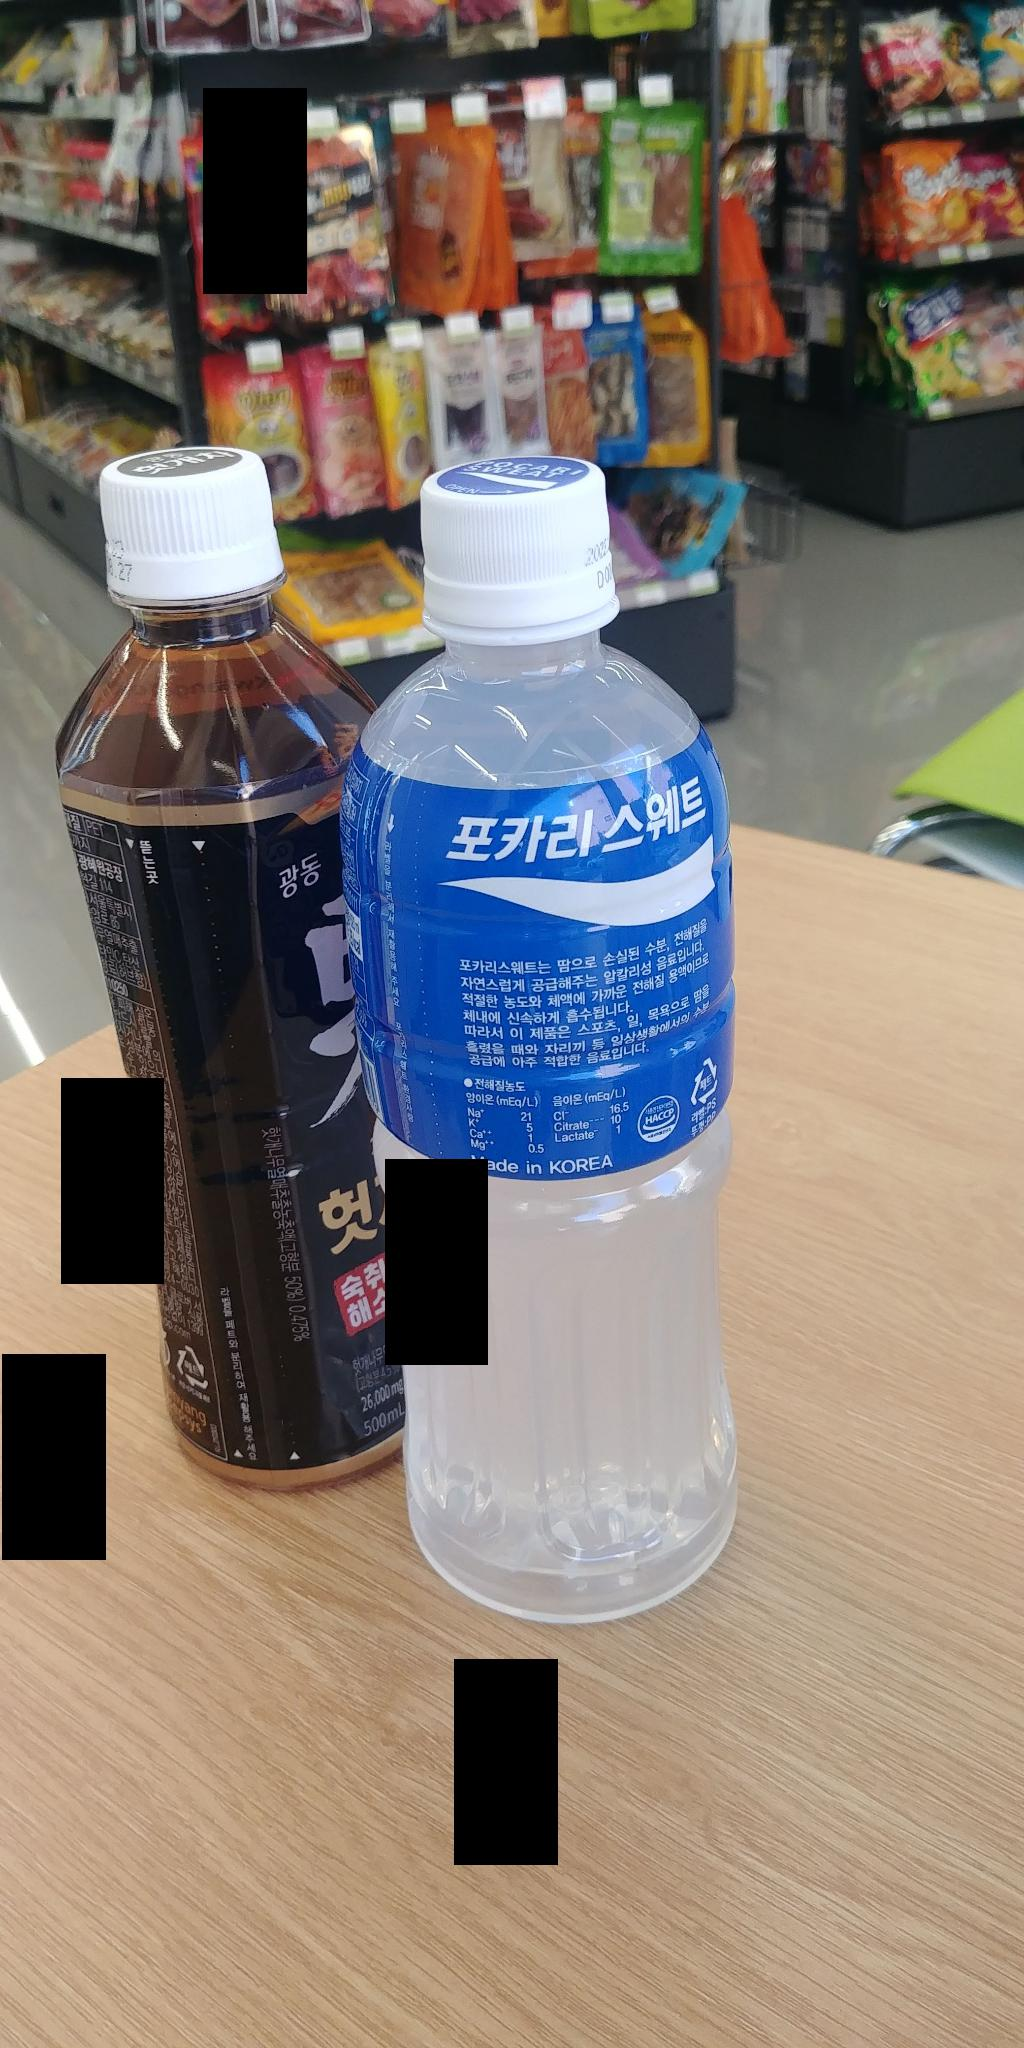heotgaecha: (50, 445, 431, 1526)
pocarisweat: (323, 462, 797, 1643)
